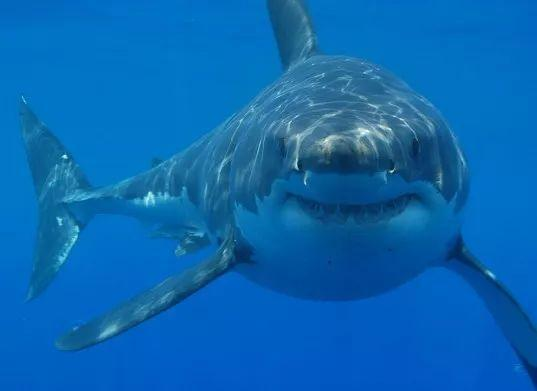fish: (18, 1, 537, 386)
